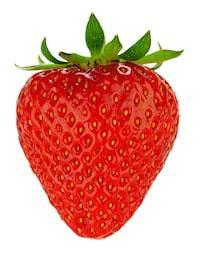Fresa: (12, 52, 186, 246)
